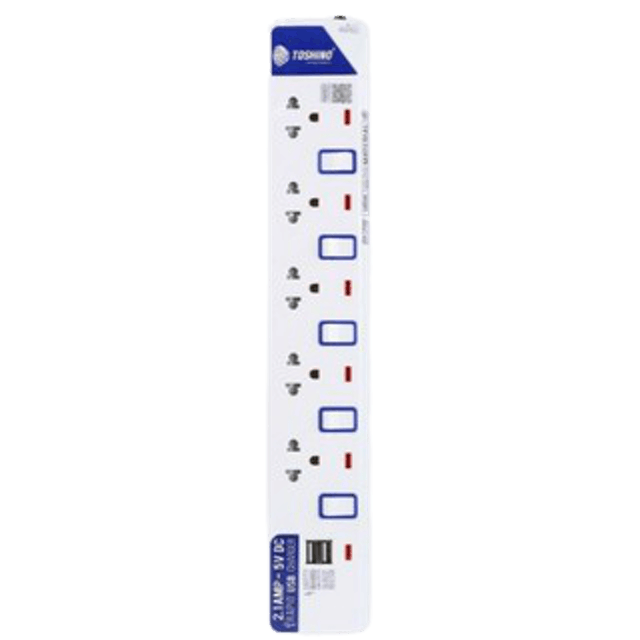Three_eye_plug: (252, 9, 387, 640)
